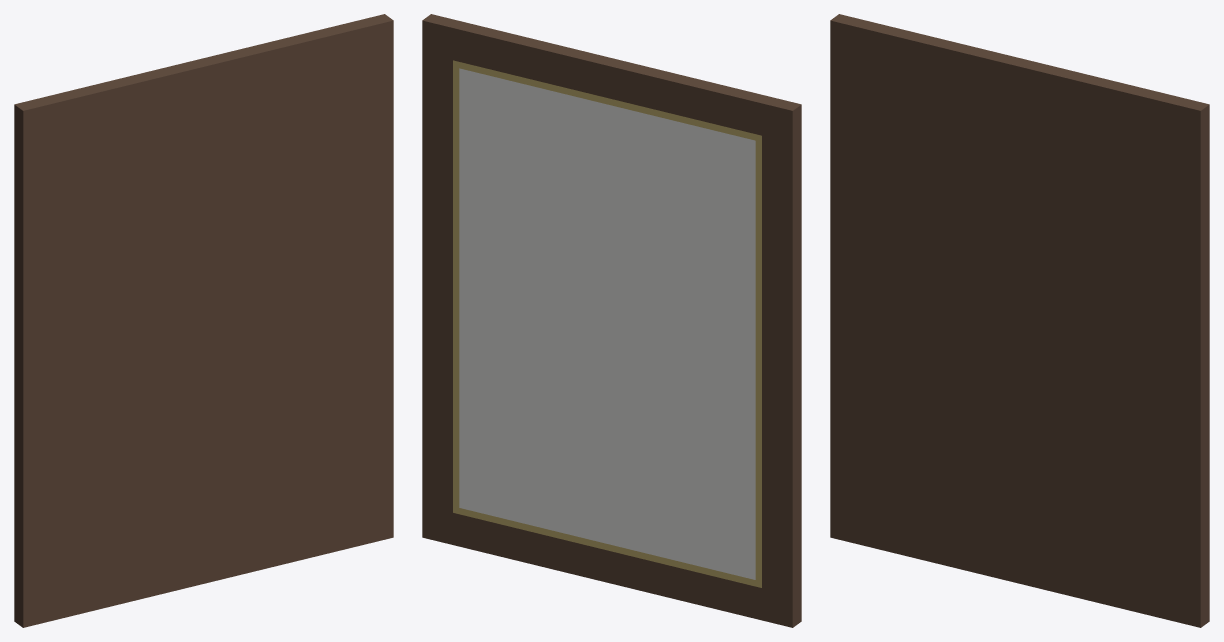
Rendered from Frame_Blender_v1.glb.
The picture shows the model from 3 angles, left to right: view 1: azimuth 30°, elevation 25°; view 2: azimuth 150°, elevation 25°; view 3: azimuth 330°, elevation 25°; orthographic projection.
Parts seen in each view (by area): view 1: Frame; view 2: Frame; view 3: Frame.
Boxes of the visible parts, x1=… form: Frame: x1=14, y1=14, x2=393, y2=627; Frame: x1=422, y1=14, x2=801, y2=627; Frame: x1=830, y1=14, x2=1209, y2=627.
Size of the model in its own units: 1.2 by 1.6 by 0.05.
